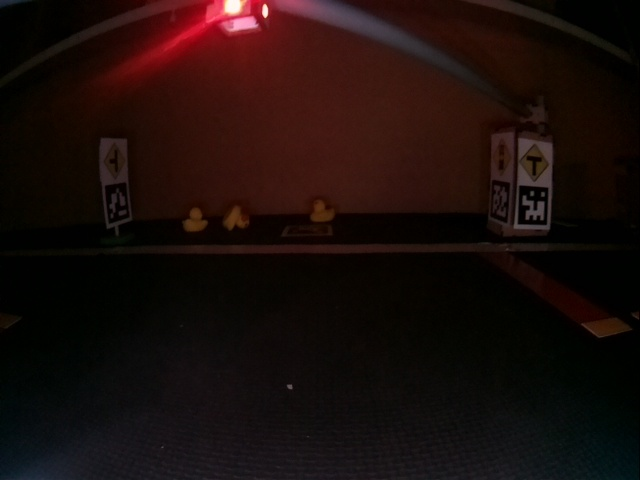Duckie: (182, 208, 205, 231), (223, 208, 248, 227), (310, 202, 335, 220)
Intersection sign: (522, 141, 550, 180), (103, 142, 127, 180)
QR code: (519, 188, 549, 228), (105, 185, 131, 224), (284, 219, 333, 238), (489, 185, 512, 223)
Signal sign: (489, 137, 514, 176)
Traffic light: (206, 0, 267, 36)
